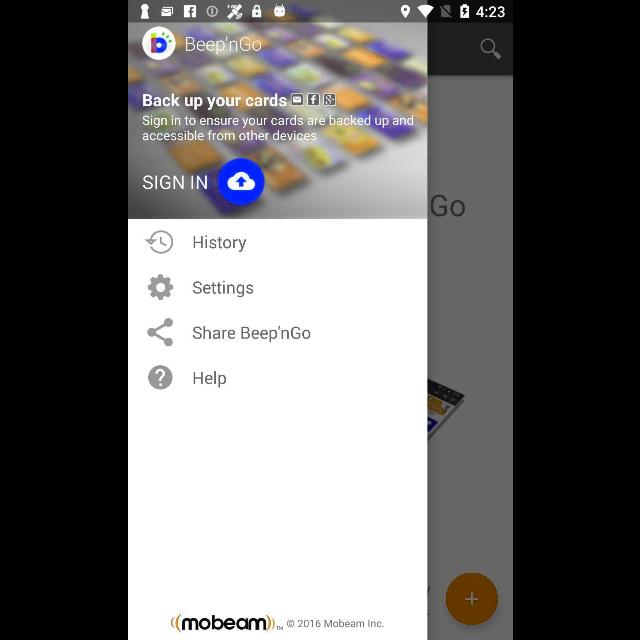button: (444, 572, 498, 626)
icon: (218, 158, 264, 206), (146, 318, 172, 347), (147, 274, 173, 300), (144, 230, 172, 253), (148, 365, 172, 389), (479, 39, 501, 60), (306, 94, 320, 106), (322, 94, 336, 106), (290, 94, 302, 106)
image: (168, 612, 282, 630), (141, 27, 175, 61)
panel: (128, 23, 426, 639)
text: (142, 115, 412, 141), (142, 94, 286, 110), (192, 326, 310, 342), (185, 36, 261, 56), (286, 616, 384, 628), (192, 280, 252, 298), (192, 235, 245, 252), (142, 176, 206, 190), (192, 370, 225, 388)
uppertaskbar: (128, 1, 512, 23)
